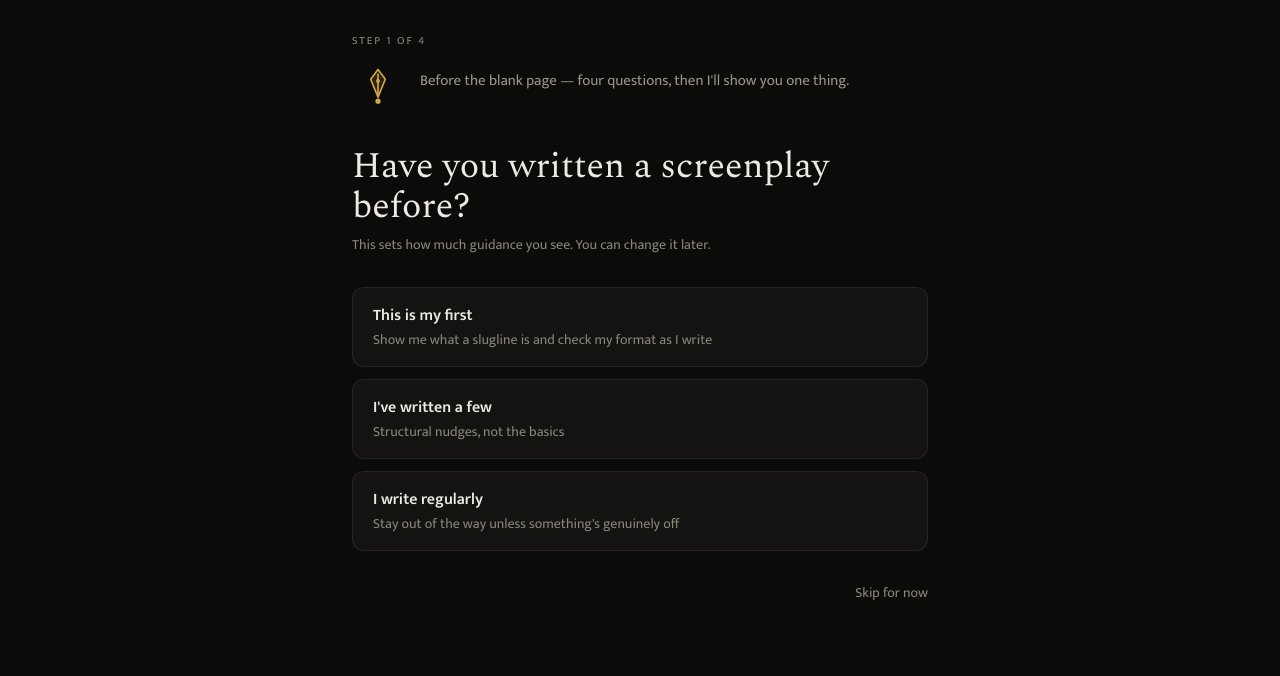
stepping through › keeps an answer when the writer steps back to change it
The width and height of the screenshot is (1280, 676).
Step 1. Click the text "This is my first" → (423, 316), box [373,302,473,329]
(page scrolled)
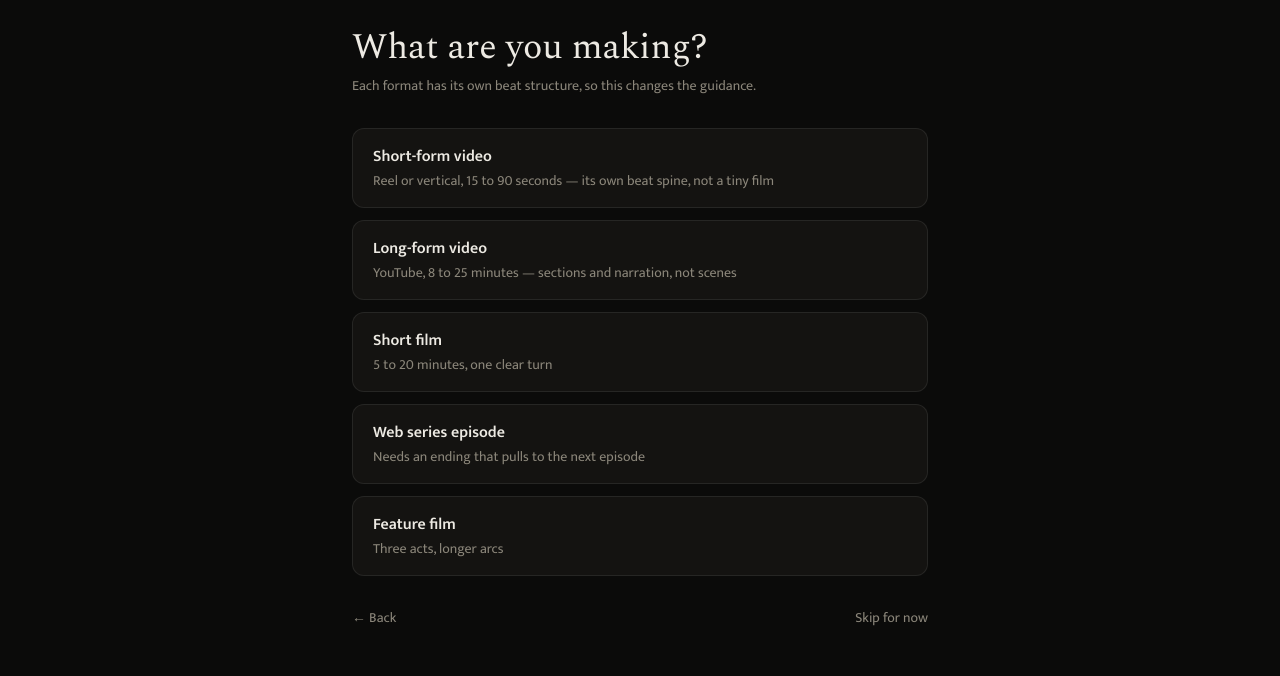
Step 2. Click the button "← Back" → (374, 618), box [352,608,396,628]
(page scrolled)
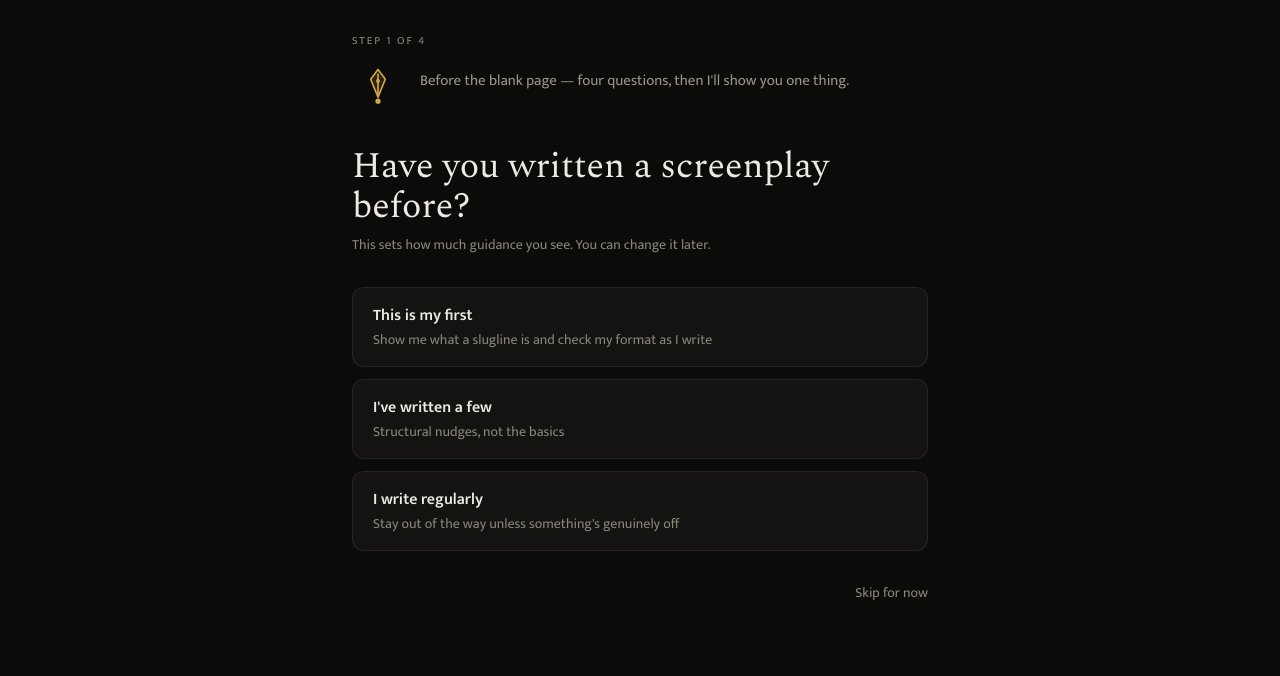
Step 3. Click the text "I write regularly" → (428, 500), box [373,486,483,513]
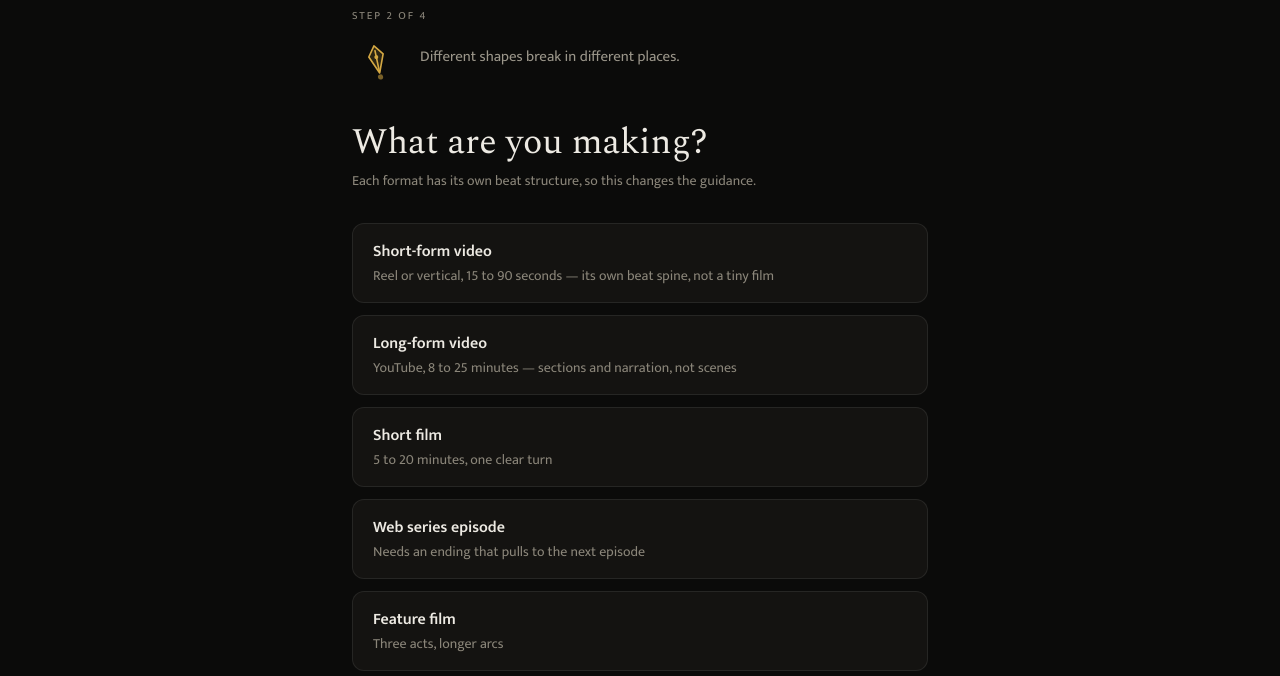
Check: the text "Step 2 of 4" is shown, box [352,7,427,25]
